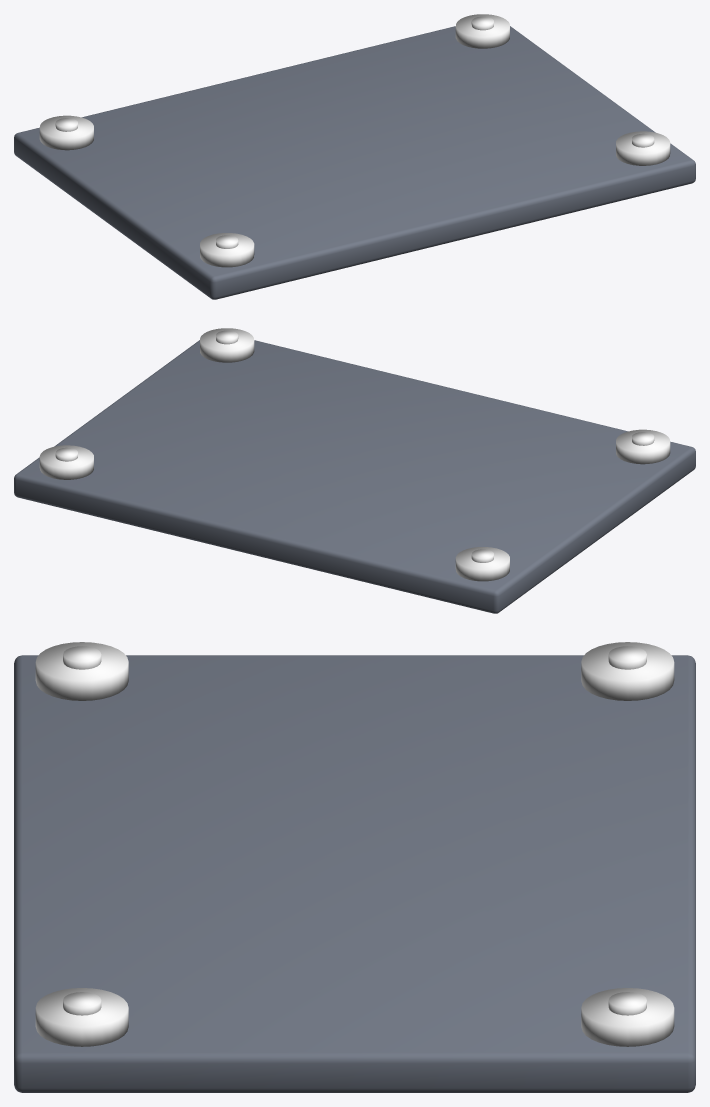
The model's file is reinforcement-metal-plate.obj.
The picture shows the model from 3 angles, top to bottom: view 1: azimuth 30°, elevation 25°; view 2: azimuth 150°, elevation 25°; view 3: azimuth 270°, elevation 25°; orthographic projection. The views are drawn at different scales.
Visible parts, largest first — view 1: reinforcement-metal-plate; view 2: reinforcement-metal-plate; view 3: reinforcement-metal-plate.
Part boxes in pixels (left/top/right/bottom): reinforcement-metal-plate: left=14, top=14, right=695, bottom=299; reinforcement-metal-plate: left=14, top=328, right=695, bottom=613; reinforcement-metal-plate: left=14, top=642, right=695, bottom=1092.
Size of the model in its own units: 0.7 by 0.054 by 0.5.
